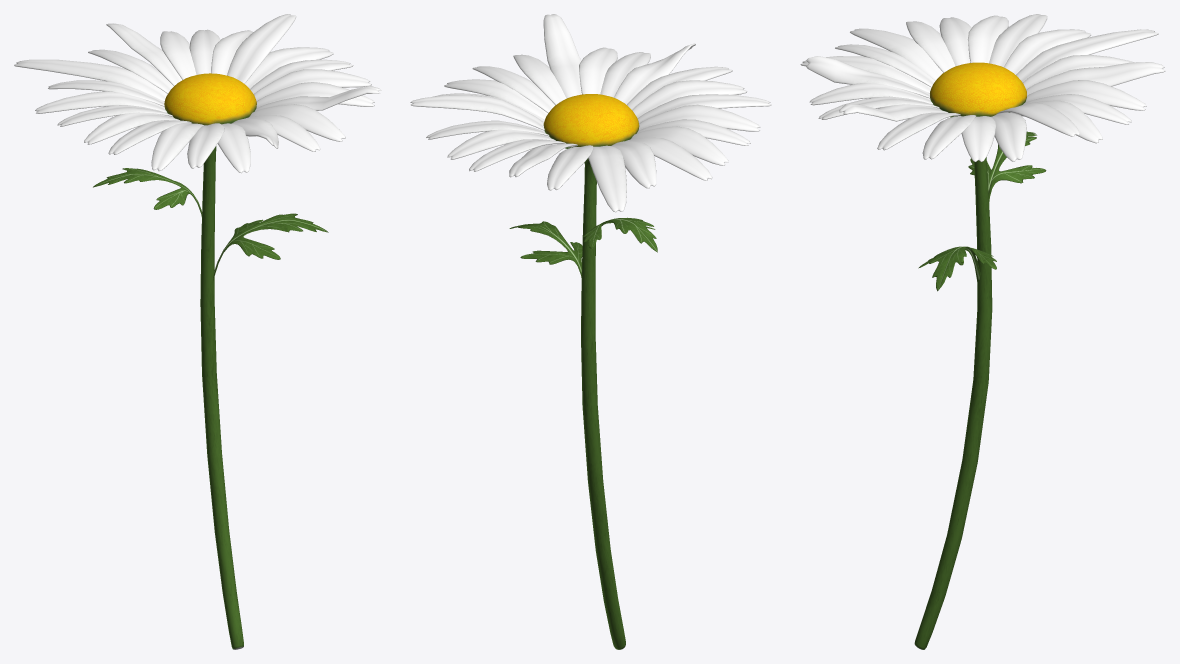
File: Russia_Chamomile.glb
3 views of the same model, side by side, from view 1: azimuth 30°, elevation 25°; view 2: azimuth 150°, elevation 25°; view 3: azimuth 270°, elevation 25° (orthographic). The views are drawn at different scales.
Parts seen in each view (by area): view 1: Low poly, Plane.013, Plane.007, Plane.001, Plane.015, Plane.027, Plane.024, Plane.026, Plane.011, Plane.019, Plane.002, Plane.006 (+14 smaller); view 2: Low poly, Plane.025, Plane.013, Plane.007, Plane.018, Plane.020, Plane.016, Plane.022, Plane.019, Plane.015, Plane, Plane.014 (+13 smaller); view 3: Low poly, Plane.013, Plane.011, Plane.022, Plane.010, Plane.019, Plane.014, Plane.023, Plane.015, Plane.016, Plane.006, Plane.001 (+14 smaller).
Part boxes in pixels (x1,y1,x2,y2): Low poly: [164, 73, 256, 649]; Plane.013: [14, 59, 167, 101]; Plane.007: [227, 14, 296, 83]; Plane.001: [212, 213, 328, 282]; Plane.015: [35, 91, 167, 113]; Plane.027: [254, 69, 371, 101]; Plane.024: [249, 104, 345, 141]; Plane.026: [256, 82, 374, 108]; Plane.011: [106, 23, 182, 85]; Plane.019: [151, 123, 203, 170]; Plane.002: [93, 168, 202, 216]; Plane.006: [245, 47, 333, 88]; Low poly: [543, 94, 639, 649]; Plane.025: [543, 14, 581, 98]; Plane.013: [588, 145, 626, 212]; Plane.007: [410, 95, 544, 130]; Plane.018: [638, 104, 760, 131]; Plane.020: [632, 80, 746, 118]; Plane.016: [630, 126, 728, 165]; Plane.022: [614, 43, 695, 104]; Plane.019: [637, 94, 771, 123]; Plane.015: [625, 137, 712, 180]; Plane: [444, 79, 547, 119]; Plane.014: [610, 141, 656, 188]; Low poly: [914, 62, 1026, 649]; Plane.013: [1016, 29, 1158, 82]; Plane.011: [1026, 62, 1165, 95]; Plane.022: [806, 56, 930, 98]; Plane.010: [1025, 80, 1146, 110]; Plane.019: [850, 28, 942, 80]; Plane.014: [1004, 29, 1090, 74]; Plane.023: [809, 83, 933, 105]; Plane.015: [989, 14, 1047, 67]; Plane.016: [968, 15, 1008, 63]; Plane.006: [990, 112, 1026, 161]; Plane.001: [918, 246, 996, 291].
Bounding box in the file's own units: 0.1435 × 0.269 × 0.1502.
1 material, 1 textured.
